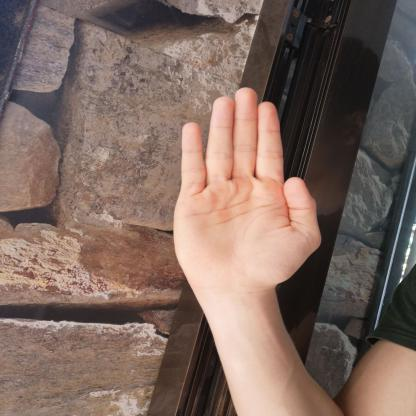SEEN: (160, 78, 334, 300)
